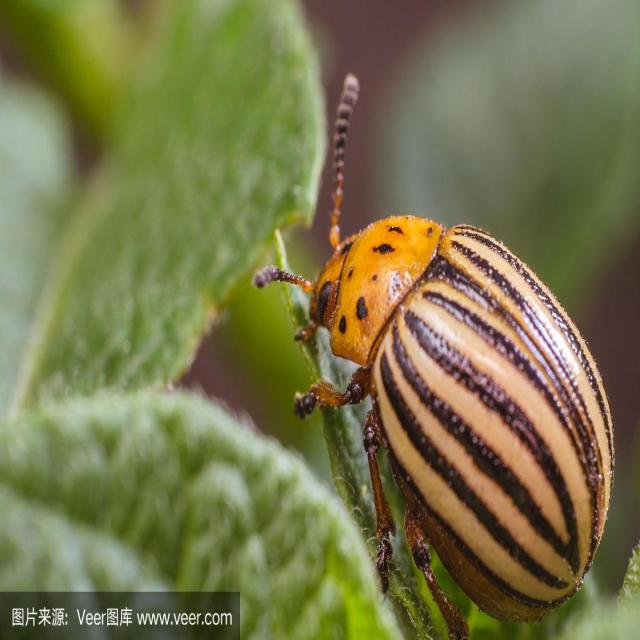ShuCaiHuaBanChong-Grown-: (303, 192, 622, 620)
